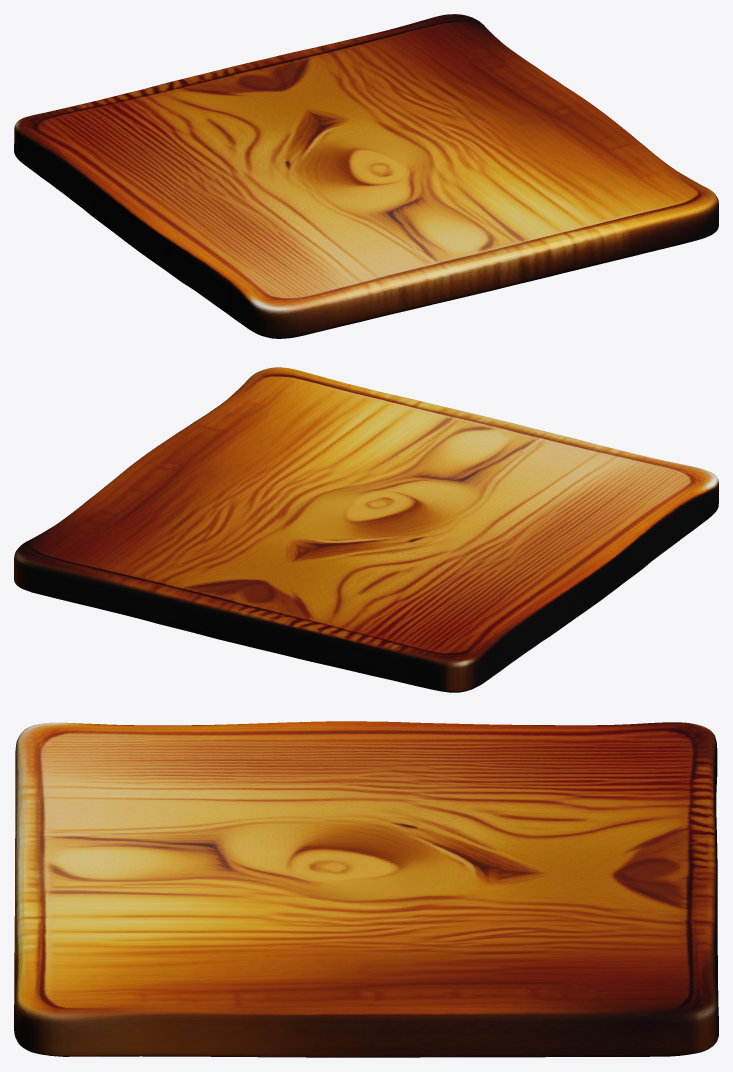
The model's file is wooden-mousepad-vintage.jpeg.glb.
3 renders of one model, top to bottom at view 1: azimuth 30°, elevation 25°; view 2: azimuth 150°, elevation 25°; view 3: azimuth 270°, elevation 25°, orthographic. The views are drawn at different scales.
Visible parts, largest first — view 1: world; view 2: world; view 3: world.
Boxes of the visible parts, x1,y1,x2,y2 form: world: (14,14,718,338); world: (14,367,718,692); world: (14,721,718,1057).
Bounding box in the file's own units: 0.9997 × 0.0724 × 0.9994.
Materials: 1 (1 with a texture image).
